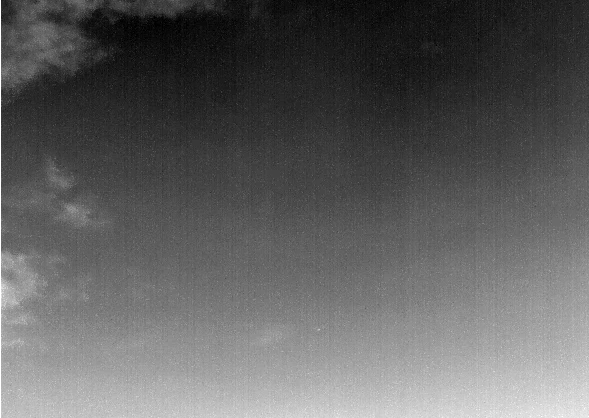dim target: (316, 327, 322, 333)
